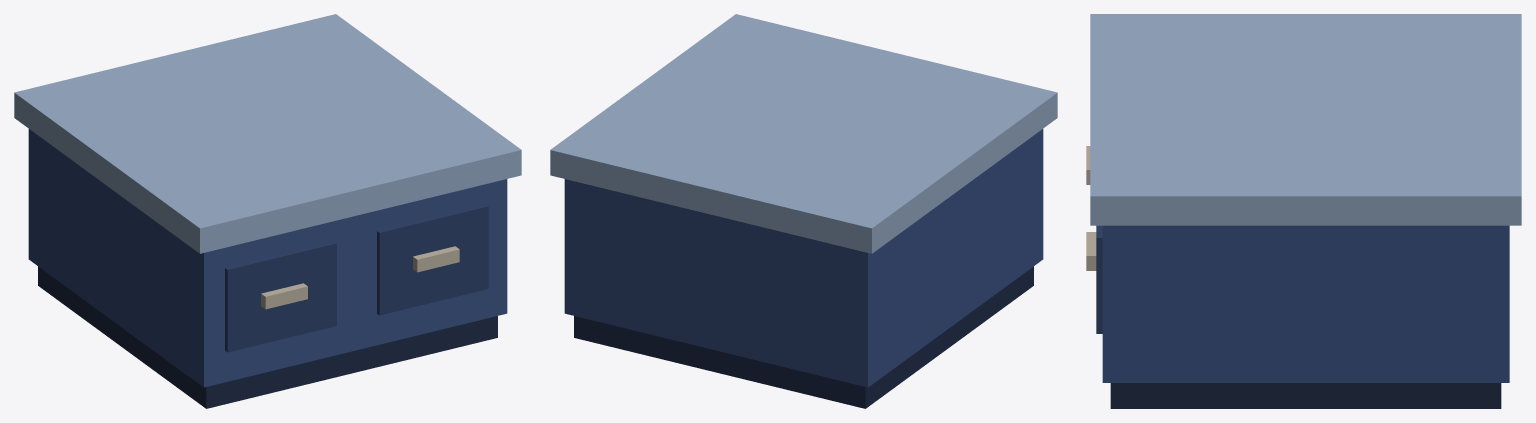
The model's file is k_frost_counter.glb.
3 views of the same model, side by side, from view 1: azimuth 30°, elevation 25°; view 2: azimuth 150°, elevation 25°; view 3: azimuth 270°, elevation 25° (orthographic). The views are drawn at different scales.
Parts seen in each view (by area): view 1: piece; view 2: piece; view 3: piece.
Part boxes in pixels (x1=…): piece: x1=14, y1=14, x2=521, y2=408; piece: x1=550, y1=14, x2=1057, y2=408; piece: x1=1086, y1=14, x2=1521, y2=408.
Size of the model in its own units: 1.06 by 0.6 by 1.07.
